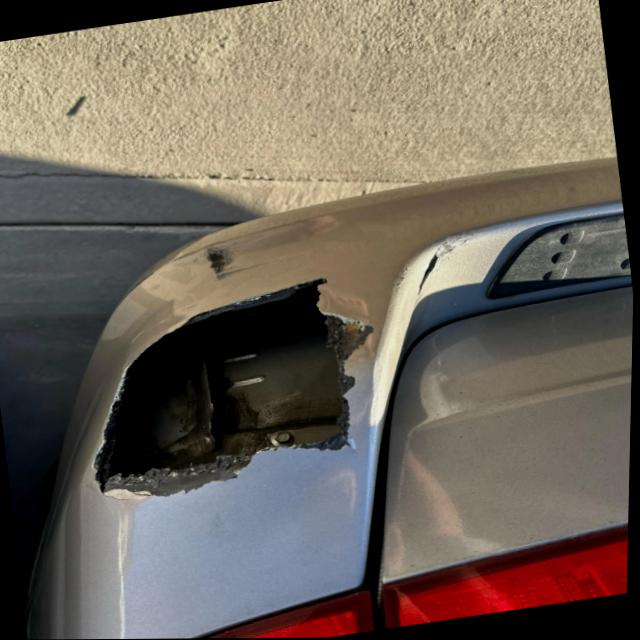Crack: (87, 271, 381, 504), (418, 250, 441, 298)
Paint-Crack: (435, 229, 495, 264), (389, 264, 410, 297)
Scratch: (201, 214, 312, 284)
